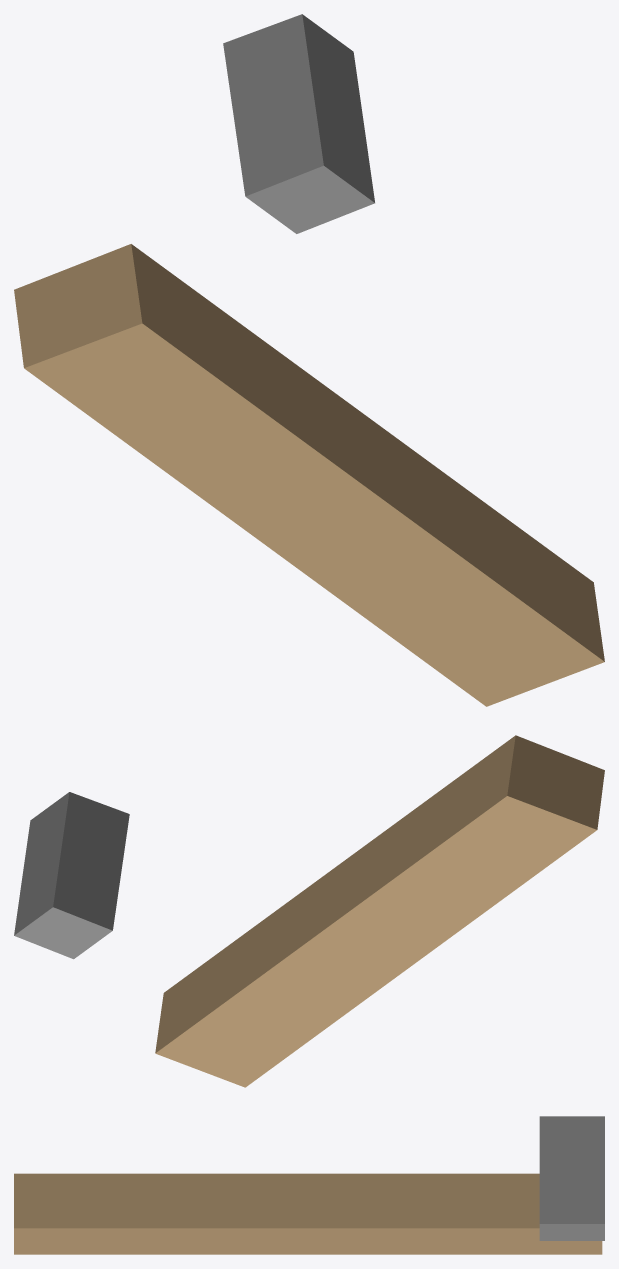
The picture shows the model from 3 angles, top to bottom: view 1: azimuth 30°, elevation 25°; view 2: azimuth 150°, elevation 25°; view 3: azimuth 270°, elevation 25°; orthographic projection. The views are drawn at different scales.
Parts seen in each view (by area): view 1: 0_1_3_2_1_1_2_0_0_1_3; view 2: 0_1_3_2_1_1_2_0_0_1_3; view 3: 0_1_3_2_1_1_2_0_0_1_3.
Boxes of the visible parts, box(x1,y1,x2,y2) form: 0_1_3_2_1_1_2_0_0_1_3: box(14, 14, 604, 706); 0_1_3_2_1_1_2_0_0_1_3: box(14, 735, 604, 1087); 0_1_3_2_1_1_2_0_0_1_3: box(14, 1116, 604, 1254).
Size of the model in its own units: 10.51 by 9.16 by 27.12.
